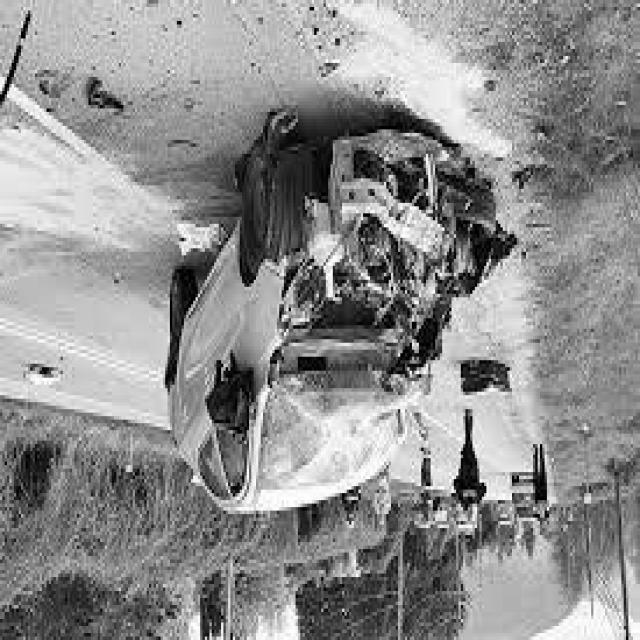severe: (163, 105, 505, 525)
